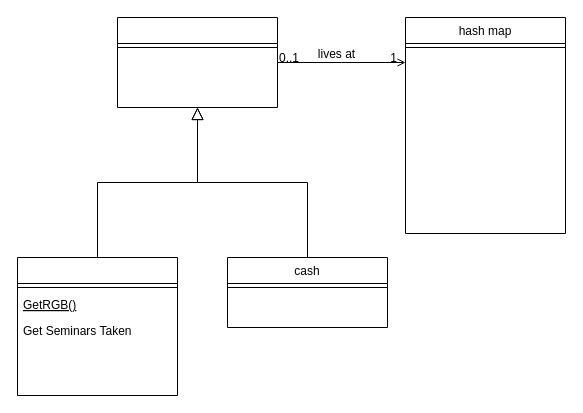
Image size: 583x413. Some labels were removed from this diagram. Each missing label, with the box of its shape:
Color: (16, 256, 178, 396)
creat: (116, 16, 278, 108)
